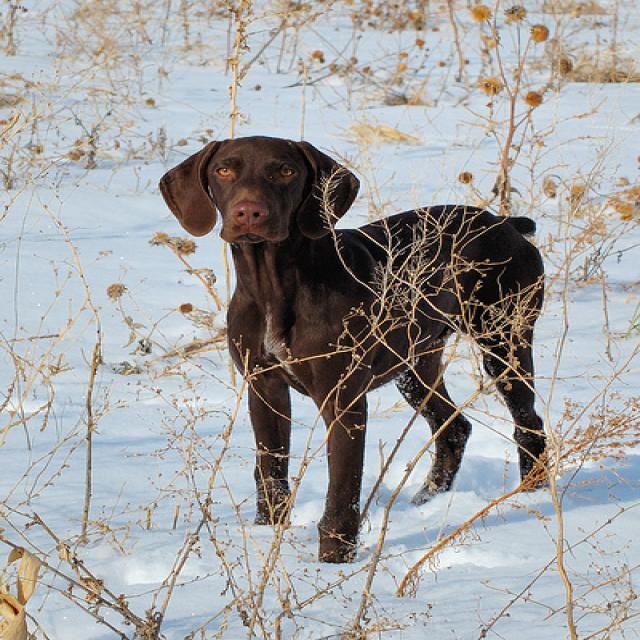dog-german_shorthaired: (142, 128, 557, 573)
